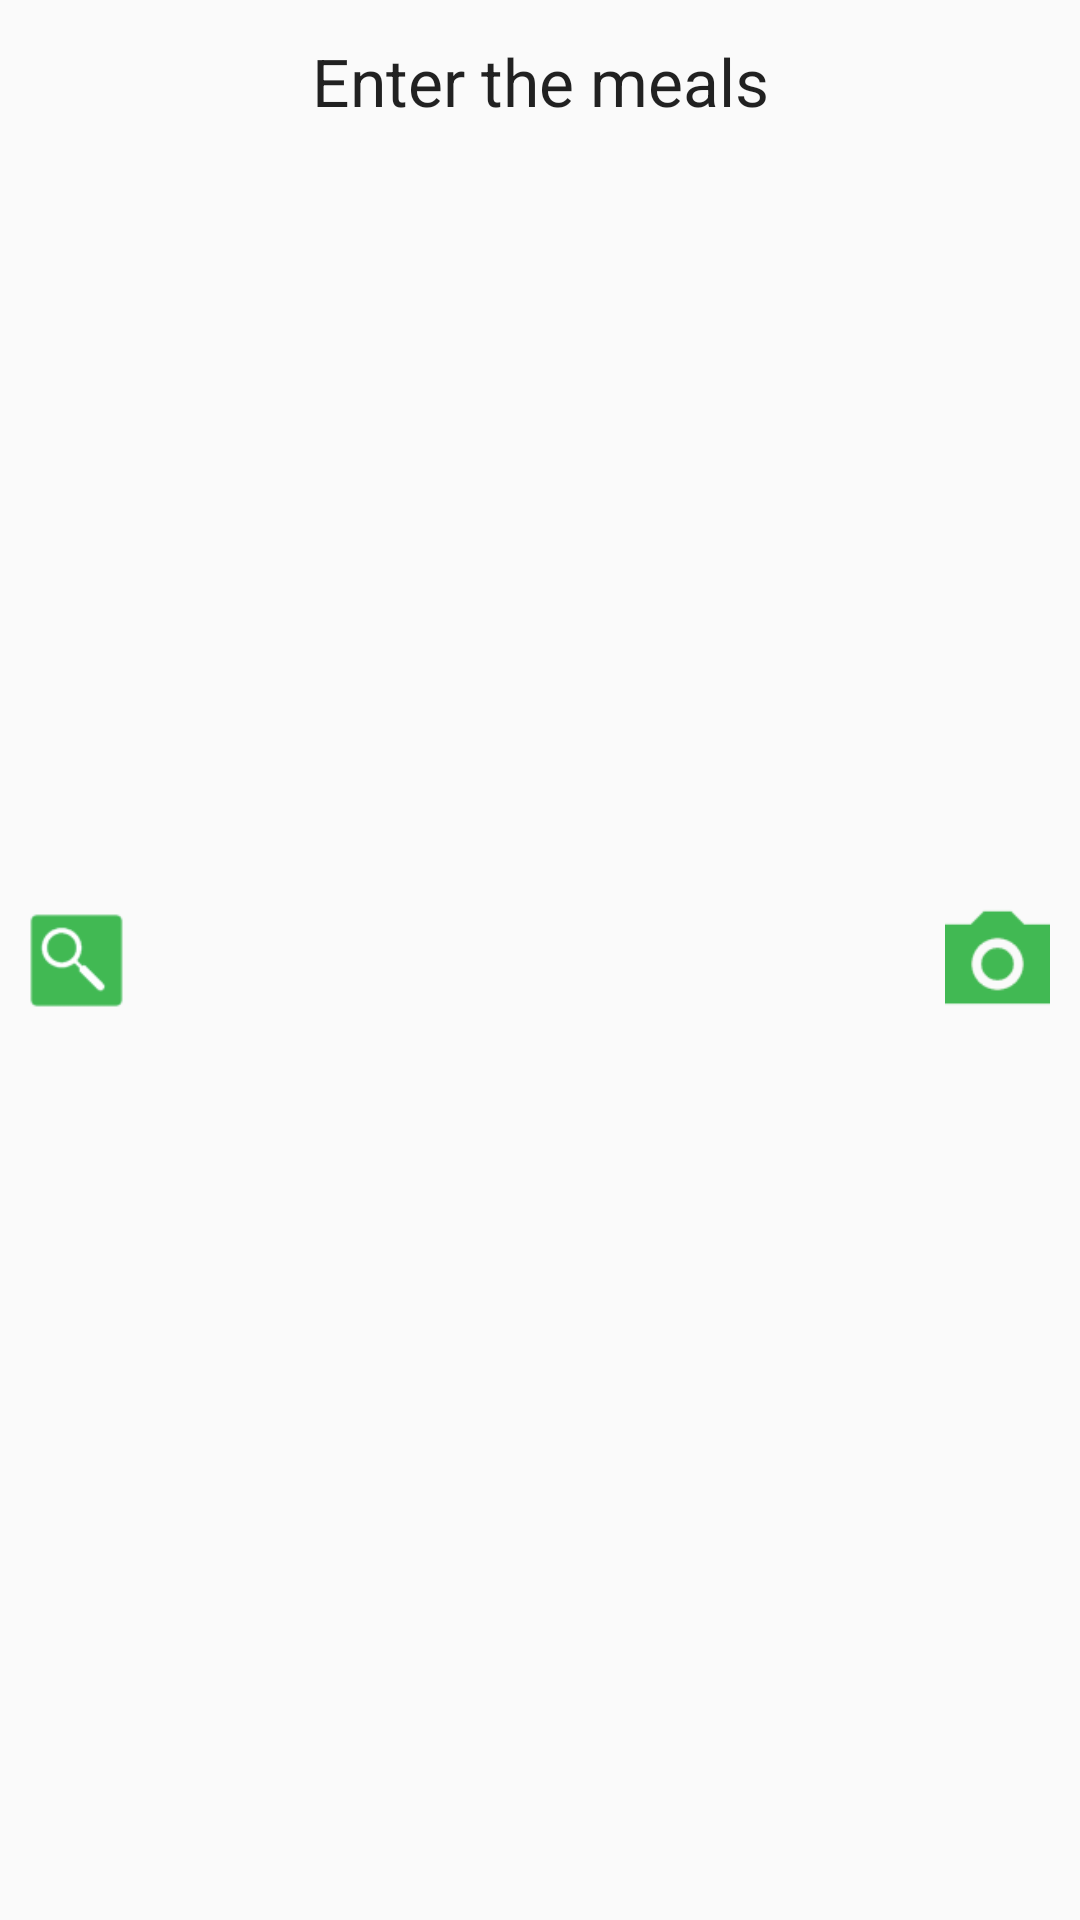

Icons on this 1080w x 1920h Android screen, each with the point to tap as (x=x, y=y):
camerasmall: (x=997, y=957)
searchsmall: (x=76, y=960)
